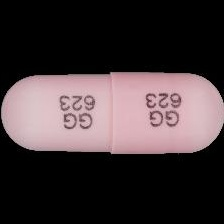0781-2053: (0, 0, 224, 224)
